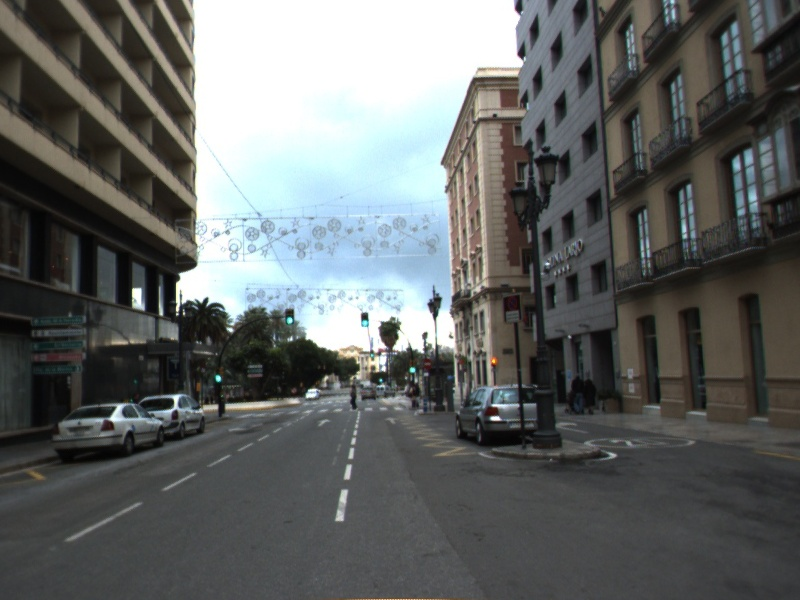RIGHT: (554, 420, 590, 435)
STRAIGHT: (314, 416, 334, 428), (382, 415, 401, 426)
STRAIGHT_LEFT: (226, 421, 265, 434)
